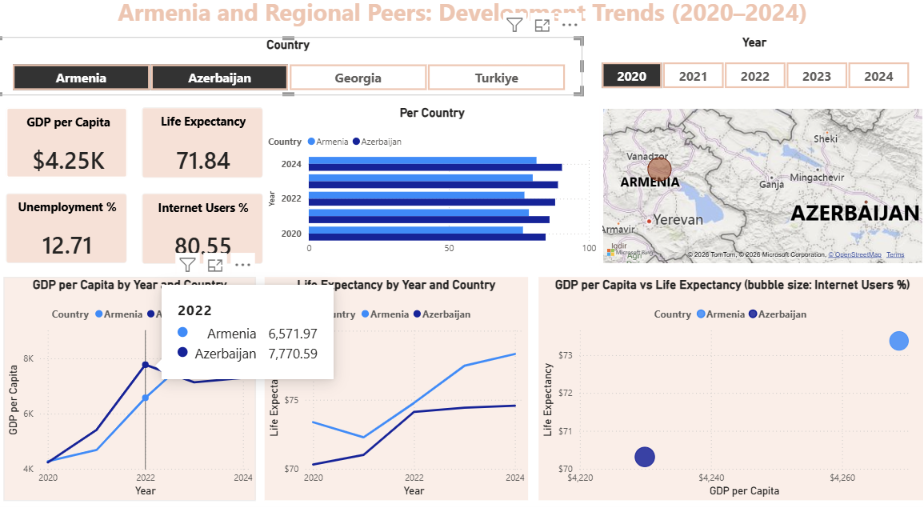

Layout of this report page (visuals, bound fields, positions):
{"tool":"powerbi","page":{"name":"Page 1","canvas":[1280,720],"ordinal":0},"visuals":[{"type":"slicer","title":"Country","fields":{"Values":["World Bank Country Year.country"]},"box":[0,61.7,808.3,80],"z":0},{"type":"slicer","title":"Year","fields":{"Values":["World Bank Country Year.year"]},"box":[808.3,58.3,471.7,80],"z":1000},{"type":"cardVisual","fields":{"Data":["Key Measure.GDP per Capita"]},"box":[0,141.7,201.7,131.7],"z":2000},{"type":"cardVisual","fields":{"Data":["Key Measure.Life Expectancy"]},"box":[186.7,141.7,200,131.7],"z":3000},{"type":"cardVisual","fields":{"Data":["Key Measure.Unemployment %"]},"box":[0,260,200,130],"z":4000},{"type":"cardVisual","fields":{"Data":["Key Measure.Internet Users %"]},"box":[186.7,260,200,131.7],"z":5000},{"type":"lineChart","fields":{"Y":["Key Measure.GDP per Capita"],"Category":["World Bank Country Year.year"],"Series":["World Bank Country Year.country"]},"box":[13.3,391.7,346.7,306.7],"z":6000},{"type":"lineChart","fields":{"Category":["World Bank Country Year.year"],"Y":["Key Measure.Life Expectancy"],"Series":["World Bank Country Year.country"]},"box":[371.7,391.7,361.7,306.7],"z":7000},{"type":"scatterChart","title":"GDP per Capita vs Life Expectancy (bubble size: Internet Users %)","fields":{"X":["Key Measure.GDP per Capita"],"Y":["Key Measure.Life Expectancy"],"Size":["Key Measure.Internet Users %"],"Series":["World Bank Country Year.country"]},"box":[748.3,391.7,531.7,306.7],"z":8000},{"type":"map","fields":{"Category":["World Bank Country Year.country"],"Size":["Key Measure.Unemployment %"]},"box":[831.7,155,448.3,221.7],"z":9000},{"type":"clusteredBarChart","title":"Per Country","fields":{"Y":["Key Measure.Internet Users %"],"Category":["World Bank Country Year.year"],"Series":["World Bank Country Year.country"]},"box":[371.7,155,460,215],"z":10000},{"type":"textbox","box":[26.7,0,1235,58.3],"z":10001}]}

Visuals, with their boxes in screenshot pixels (x1, y1, x2, y2), scaled from the page's 1280x720 canvas onto the 923x507 screenshot:
"Country" slicer: x1=0, y1=43, x2=583, y2=100
"Year" slicer: x1=583, y1=41, x2=922, y2=97
cardVisual - Key Measure.GDP per Capita: x1=0, y1=100, x2=145, y2=193
cardVisual - Key Measure.Life Expectancy: x1=135, y1=100, x2=279, y2=193
cardVisual - Key Measure.Unemployment %: x1=0, y1=183, x2=144, y2=275
cardVisual - Key Measure.Internet Users %: x1=135, y1=183, x2=279, y2=276
lineChart - Key Measure.GDP per Capita x World Bank Country Year.year: x1=10, y1=276, x2=260, y2=492
lineChart - World Bank Country Year.year x Key Measure.Life Expectancy: x1=268, y1=276, x2=529, y2=492
"GDP per Capita vs Life Expectancy (bubble size: Internet Users %)" scatterChart: x1=540, y1=276, x2=922, y2=492
map - World Bank Country Year.country x Key Measure.Unemployment %: x1=600, y1=109, x2=922, y2=265
"Per Country" clusteredBarChart: x1=268, y1=109, x2=600, y2=261
textbox: x1=19, y1=0, x2=910, y2=41
